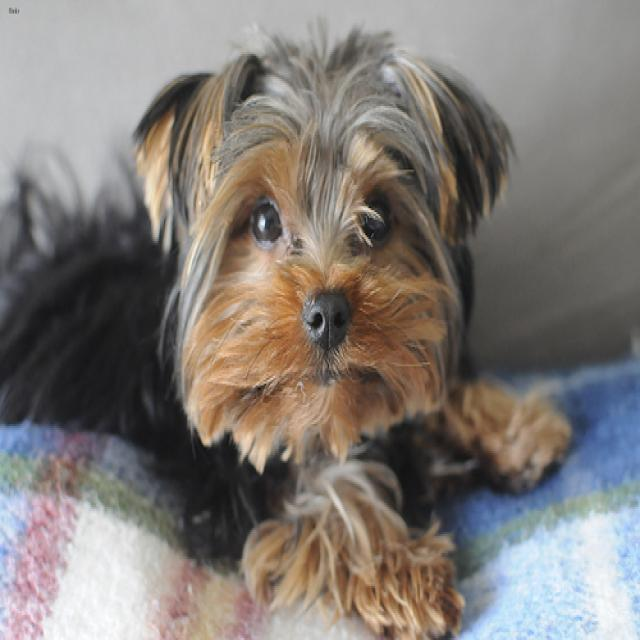dog-yorkshire_terrier: (1, 12, 589, 636)
